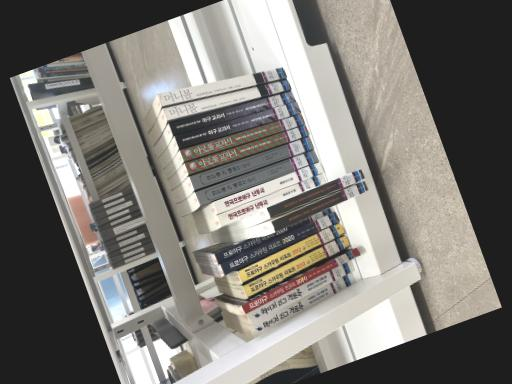book-spine: (241, 247, 360, 312), (221, 210, 340, 274), (247, 258, 355, 323), (250, 271, 355, 336), (195, 149, 319, 204), (214, 206, 332, 263), (243, 234, 349, 296), (190, 135, 314, 187), (238, 221, 345, 281), (184, 124, 309, 172), (180, 113, 305, 160), (217, 172, 326, 225), (174, 101, 301, 146), (213, 161, 324, 212), (168, 90, 296, 133), (162, 78, 290, 119), (157, 66, 287, 104), (267, 167, 365, 217), (271, 180, 368, 230)
